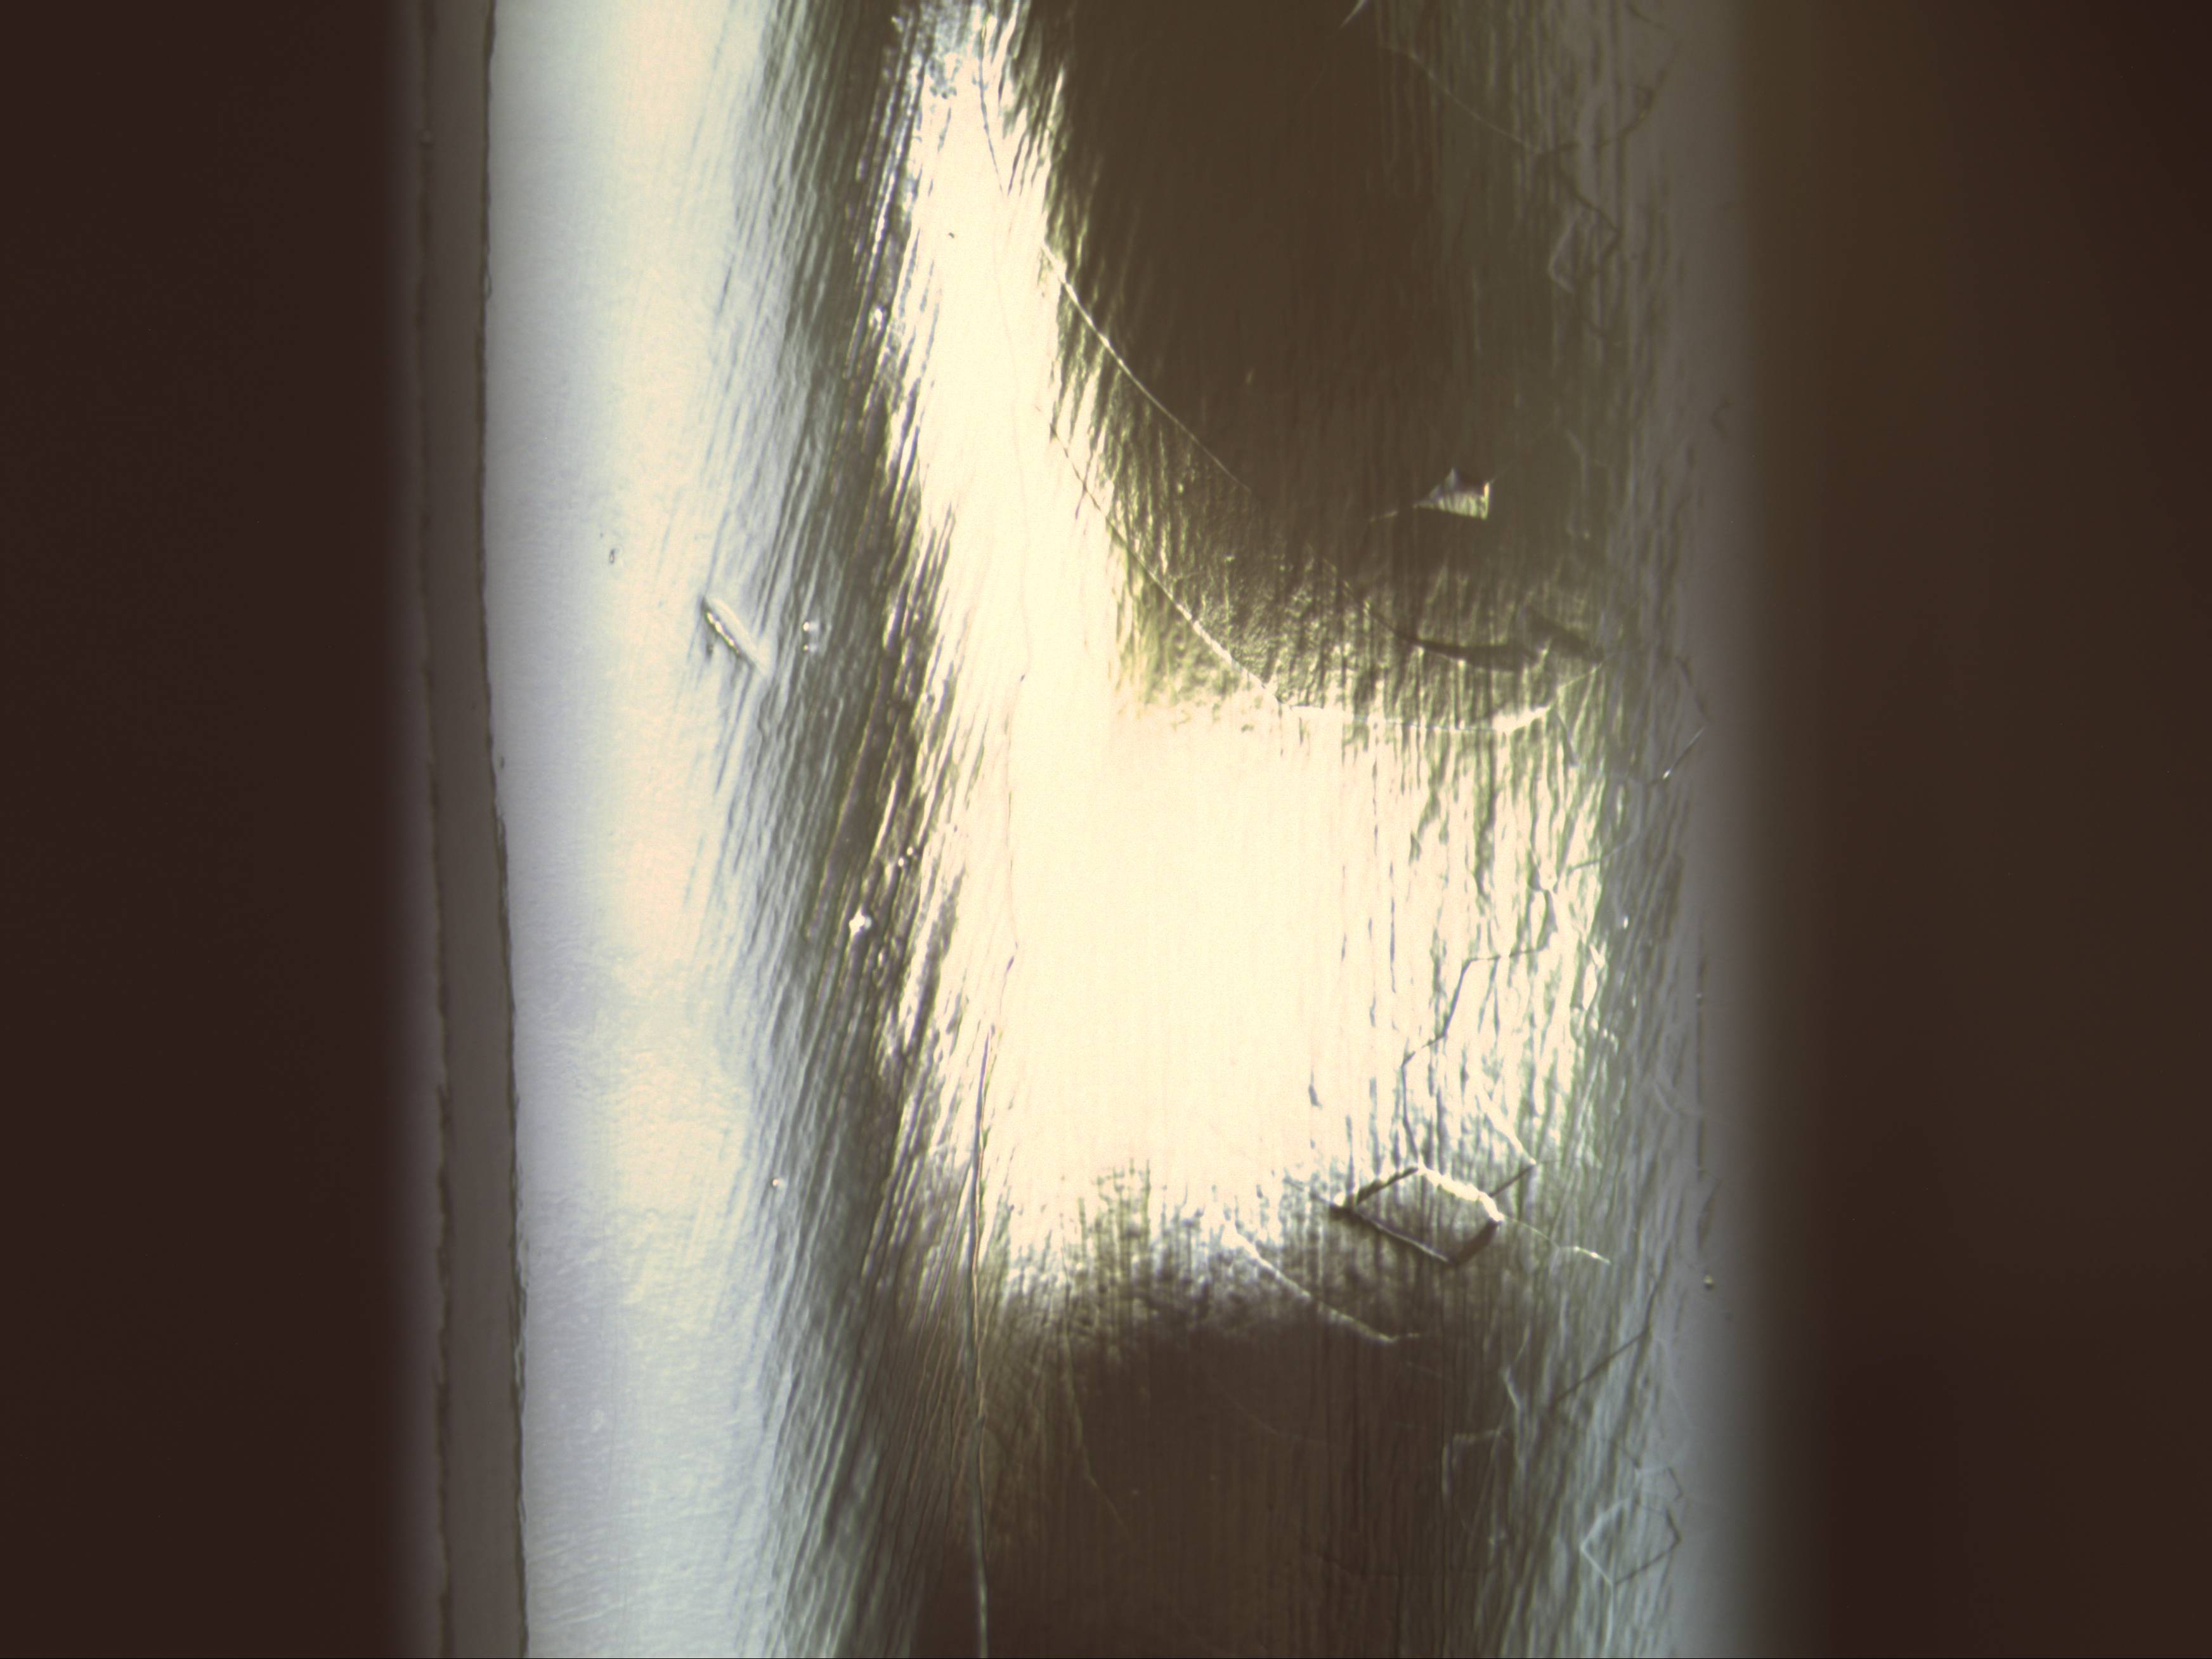defect: (843, 896, 881, 945)
